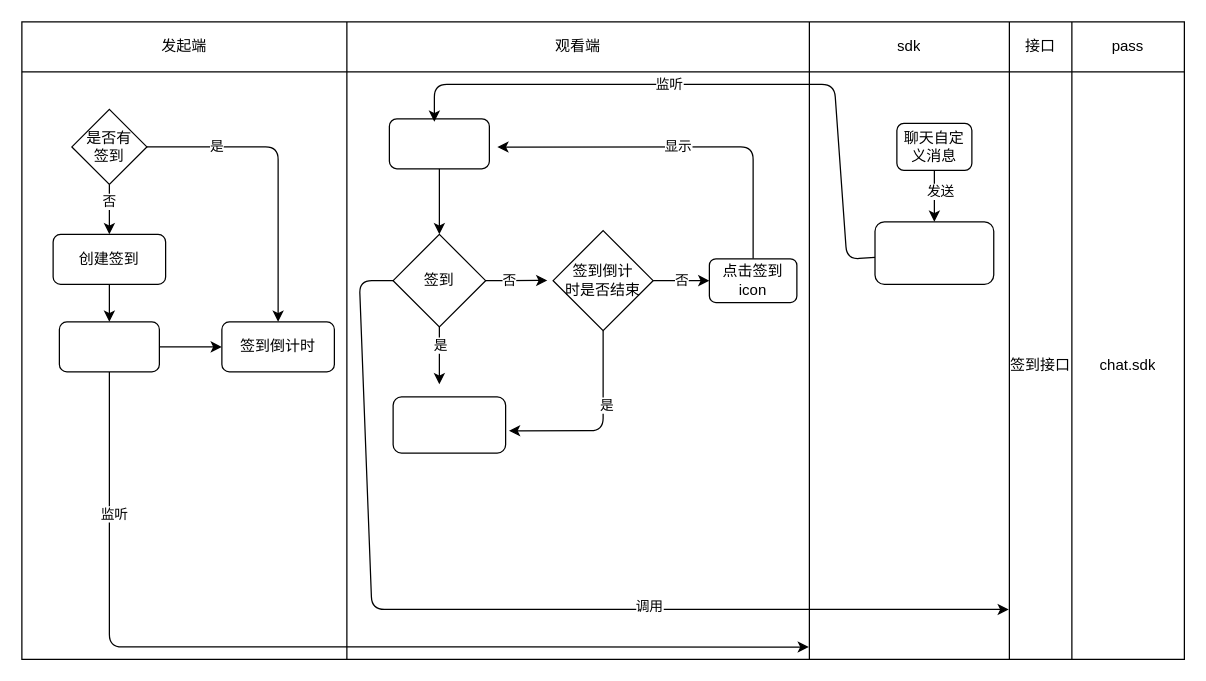
The diagram is 1206 pixels wide and 681 high, and some of its shapes have lost their labels. Here are the shapes that lost their labels. From the top down, the centre of each, then its label:
At [438,143]: "显示签到面板".
At [934,252]: "自定义消息 sign_in_push".
At [108,346]: "发起签到".
At [449,424]: "签到面板、icon消失".
